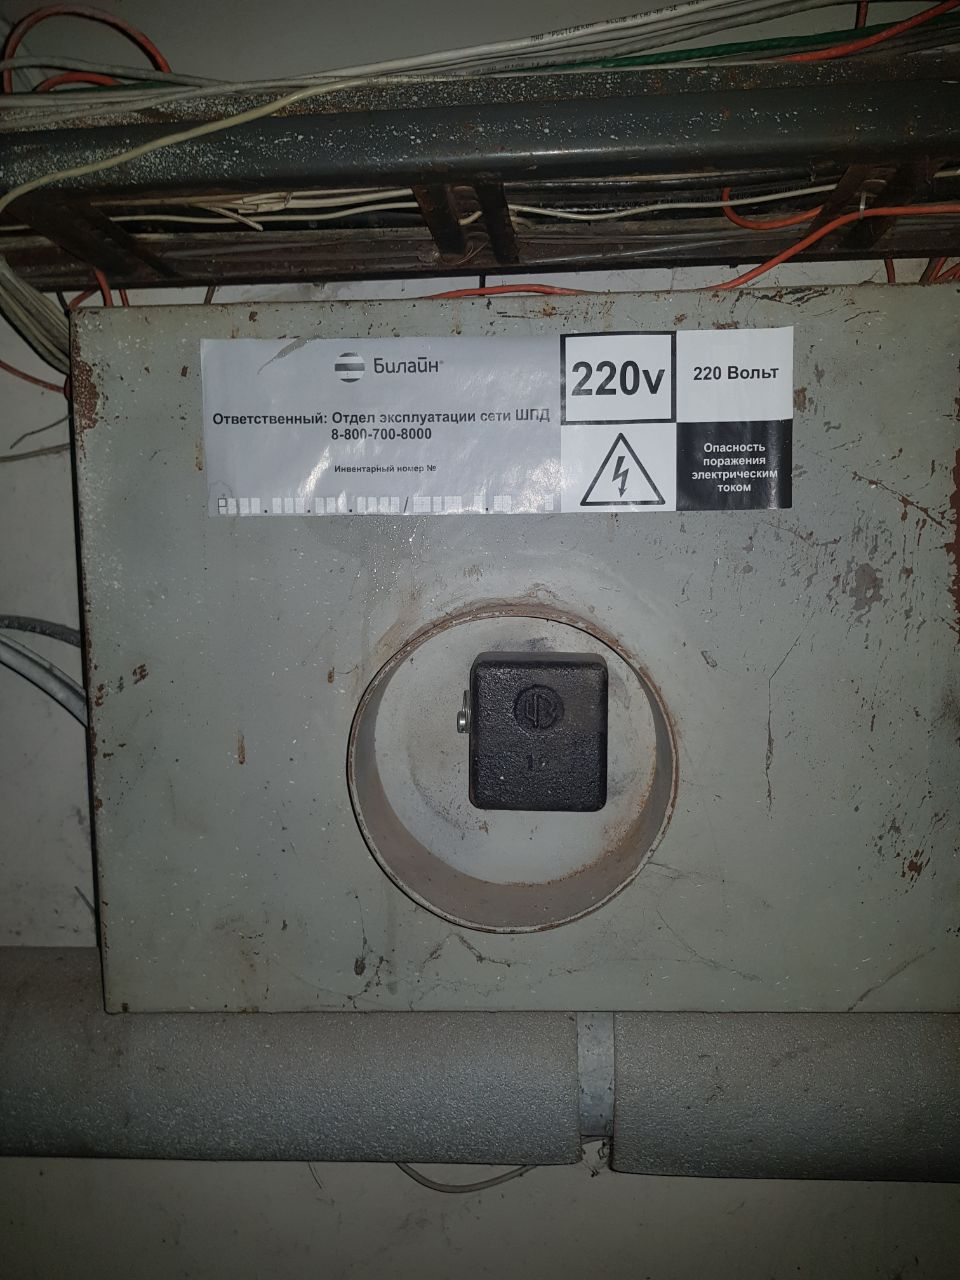shta-3: (63, 279, 956, 1015)
